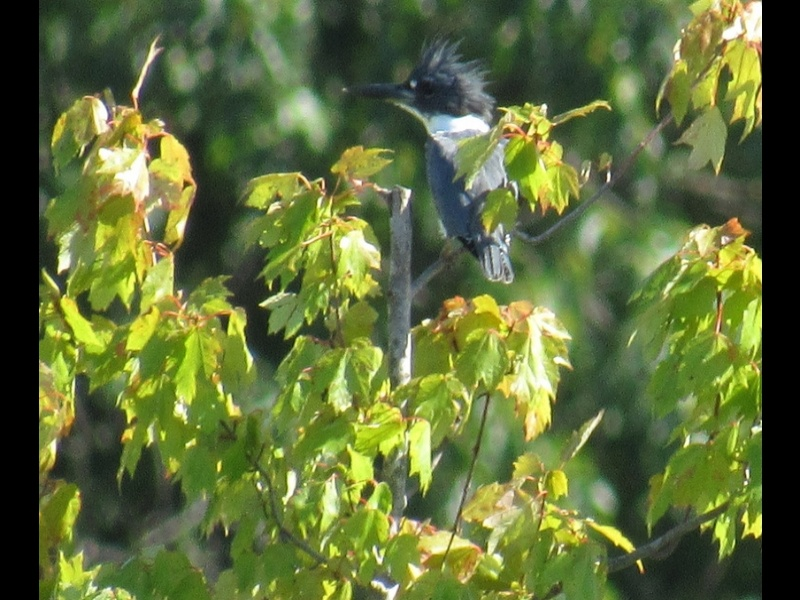kingfisher: (341, 35, 521, 285)
